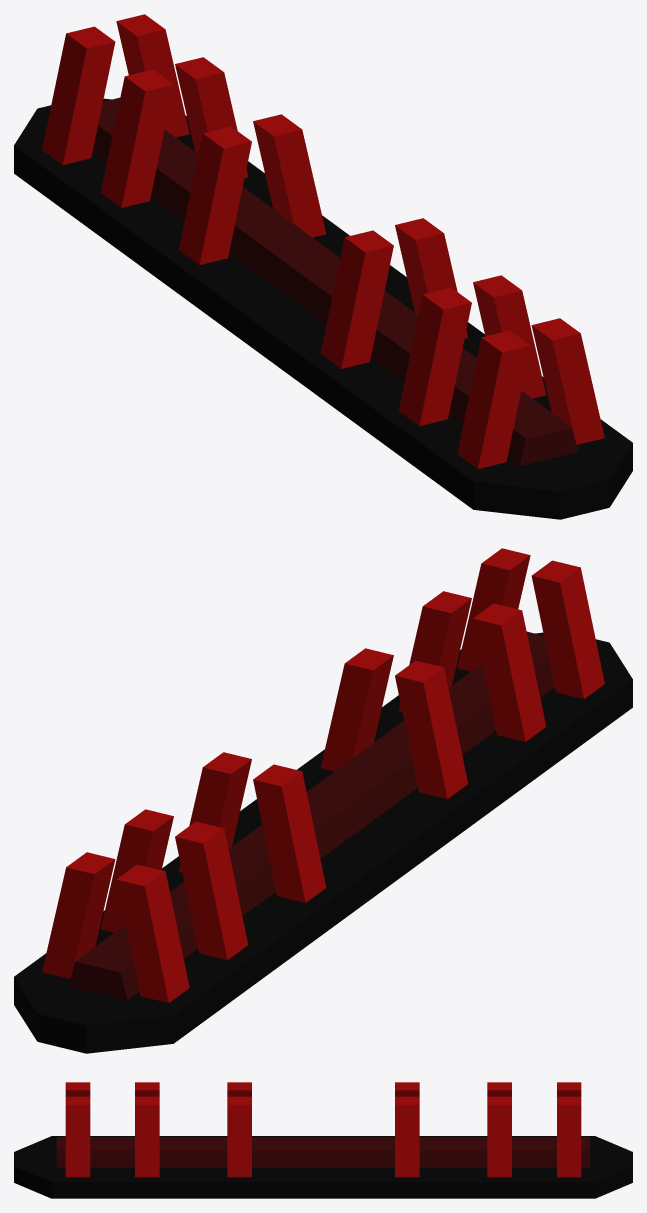
File: structure_platform_keel.glb
The picture shows the model from 3 angles, top to bottom: view 1: azimuth 30°, elevation 25°; view 2: azimuth 150°, elevation 25°; view 3: azimuth 270°, elevation 25°; orthographic projection. The views are drawn at different scales.
Visible parts, largest first — view 1: Cube.001, Cube, Cube.003; view 2: Cube.001, Cube, Cube.003; view 3: Cube, Cube.001, Cube.003.
Part boxes in pixels (left/top/right/bottom): Cube.001: left=42, top=14, right=604, bottom=468; Cube: left=14, top=98, right=632, bottom=519; Cube.003: left=92, top=97, right=578, bottom=466; Cube.001: left=42, top=548, right=604, bottom=1002; Cube: left=14, top=632, right=632, bottom=1053; Cube.003: left=68, top=631, right=554, bottom=1000; Cube: left=14, top=1136, right=632, bottom=1198; Cube.001: left=65, top=1082, right=581, bottom=1177; Cube.003: left=56, top=1137, right=590, bottom=1167.
Size of the model in its own units: 4.58 by 4.03 by 26.03.
